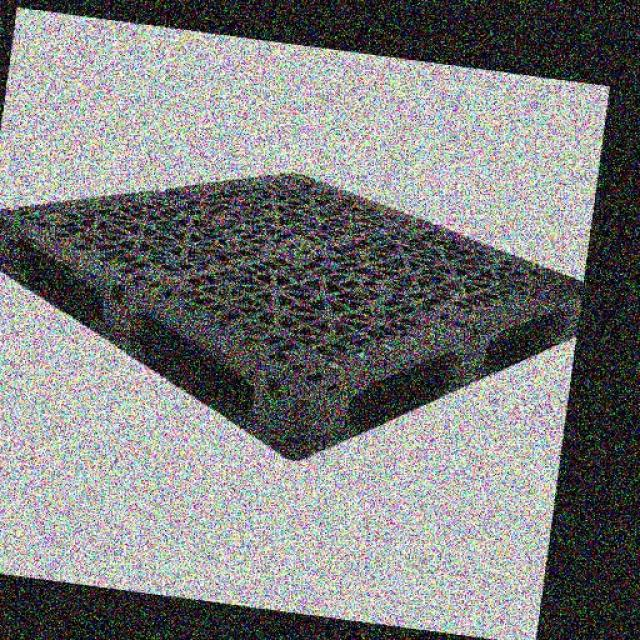non-igps: (0, 163, 588, 469)
